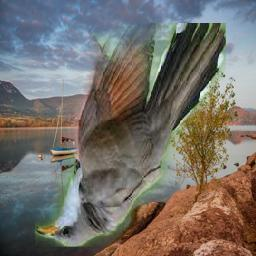Cuckoo: (36, 23, 227, 247)
